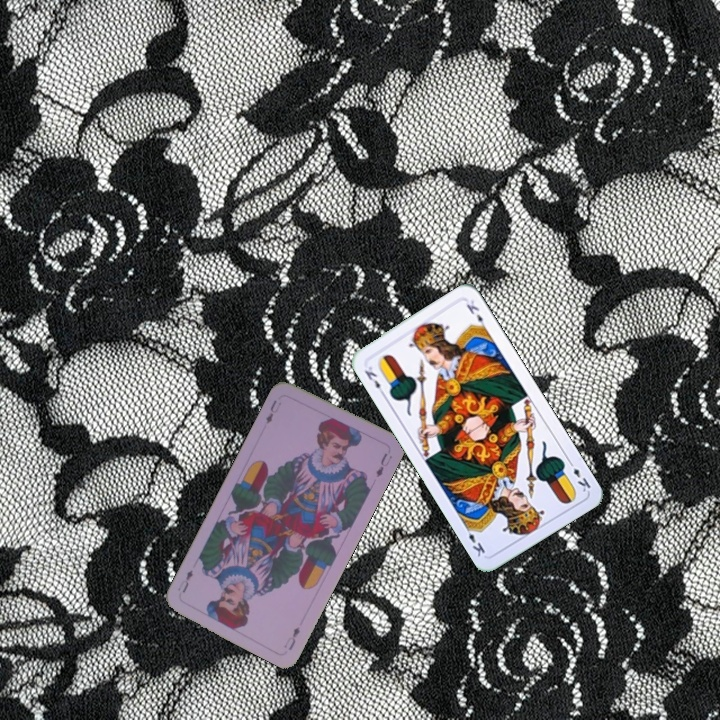EK: (564, 456, 593, 495), (360, 362, 388, 398)
EU: (260, 395, 284, 430), (279, 623, 302, 653)
